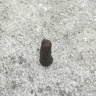Dog: (39, 38, 54, 67)
